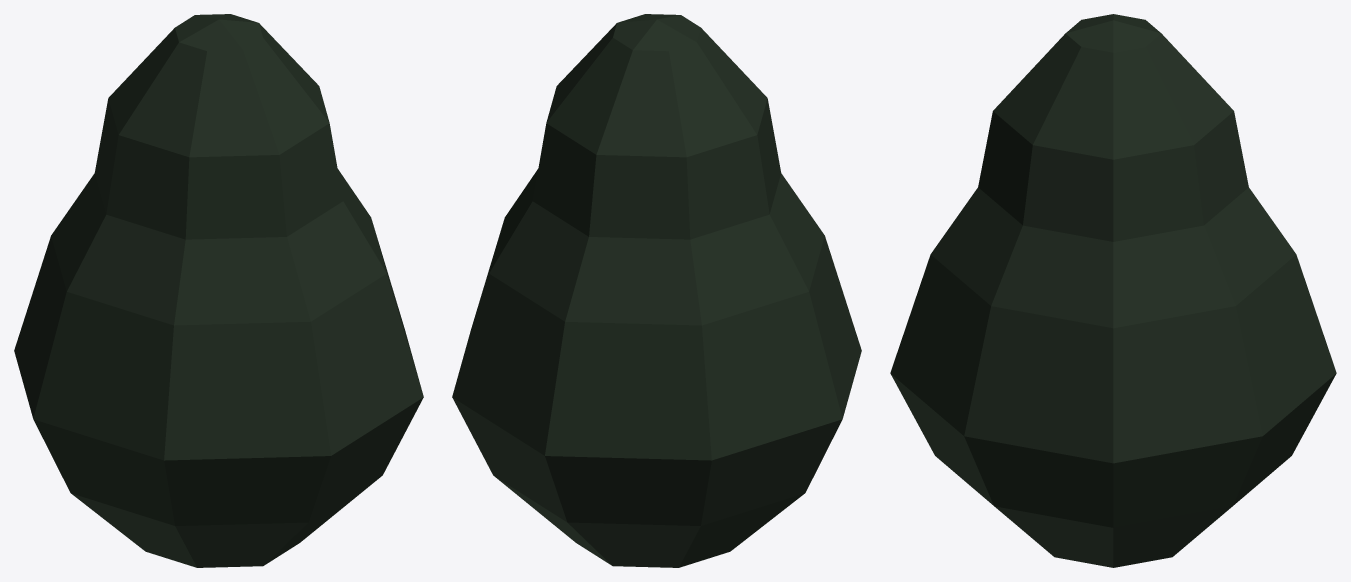
Rendered from Avocado.fbx.
3 renders of one model, left to right at view 1: azimuth 30°, elevation 25°; view 2: azimuth 150°, elevation 25°; view 3: azimuth 270°, elevation 25°, orthographic.
Visible parts, largest first — view 1: Avocado; view 2: Avocado; view 3: Avocado.
Boxes of the visible parts, x1,y1,x2,y2 form: Avocado: (14, 14, 423, 567); Avocado: (452, 14, 861, 567); Avocado: (890, 14, 1336, 567).
Bounding box in the file's own units: 8.15 × 11.39 × 8.53.
